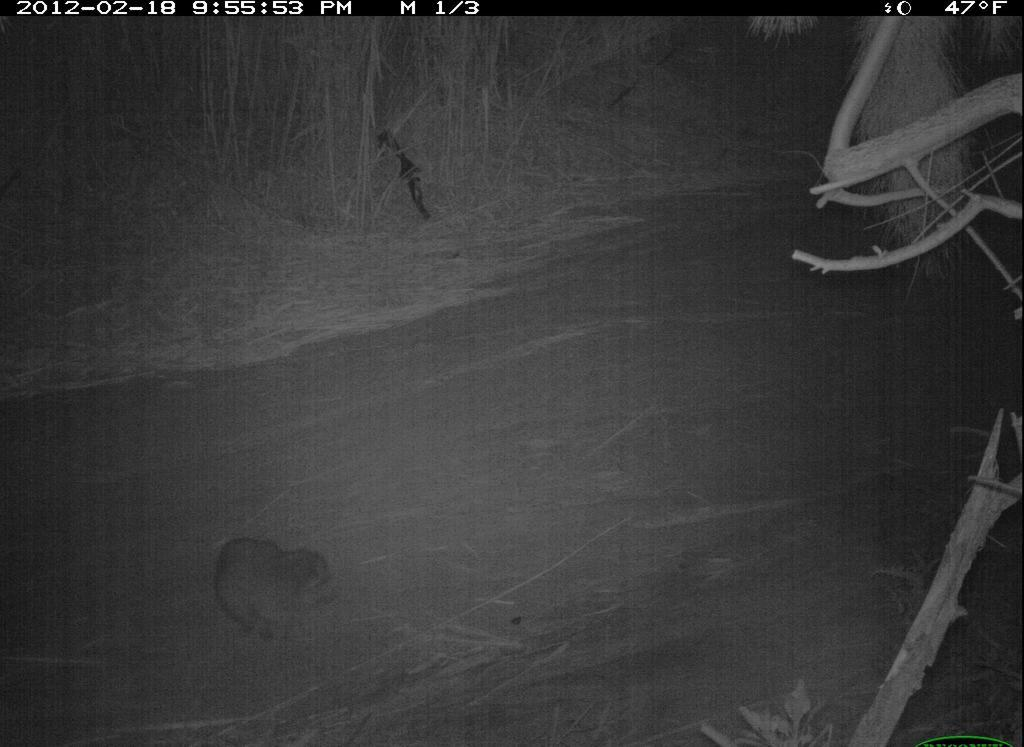raccoon: (196, 523, 354, 657)
